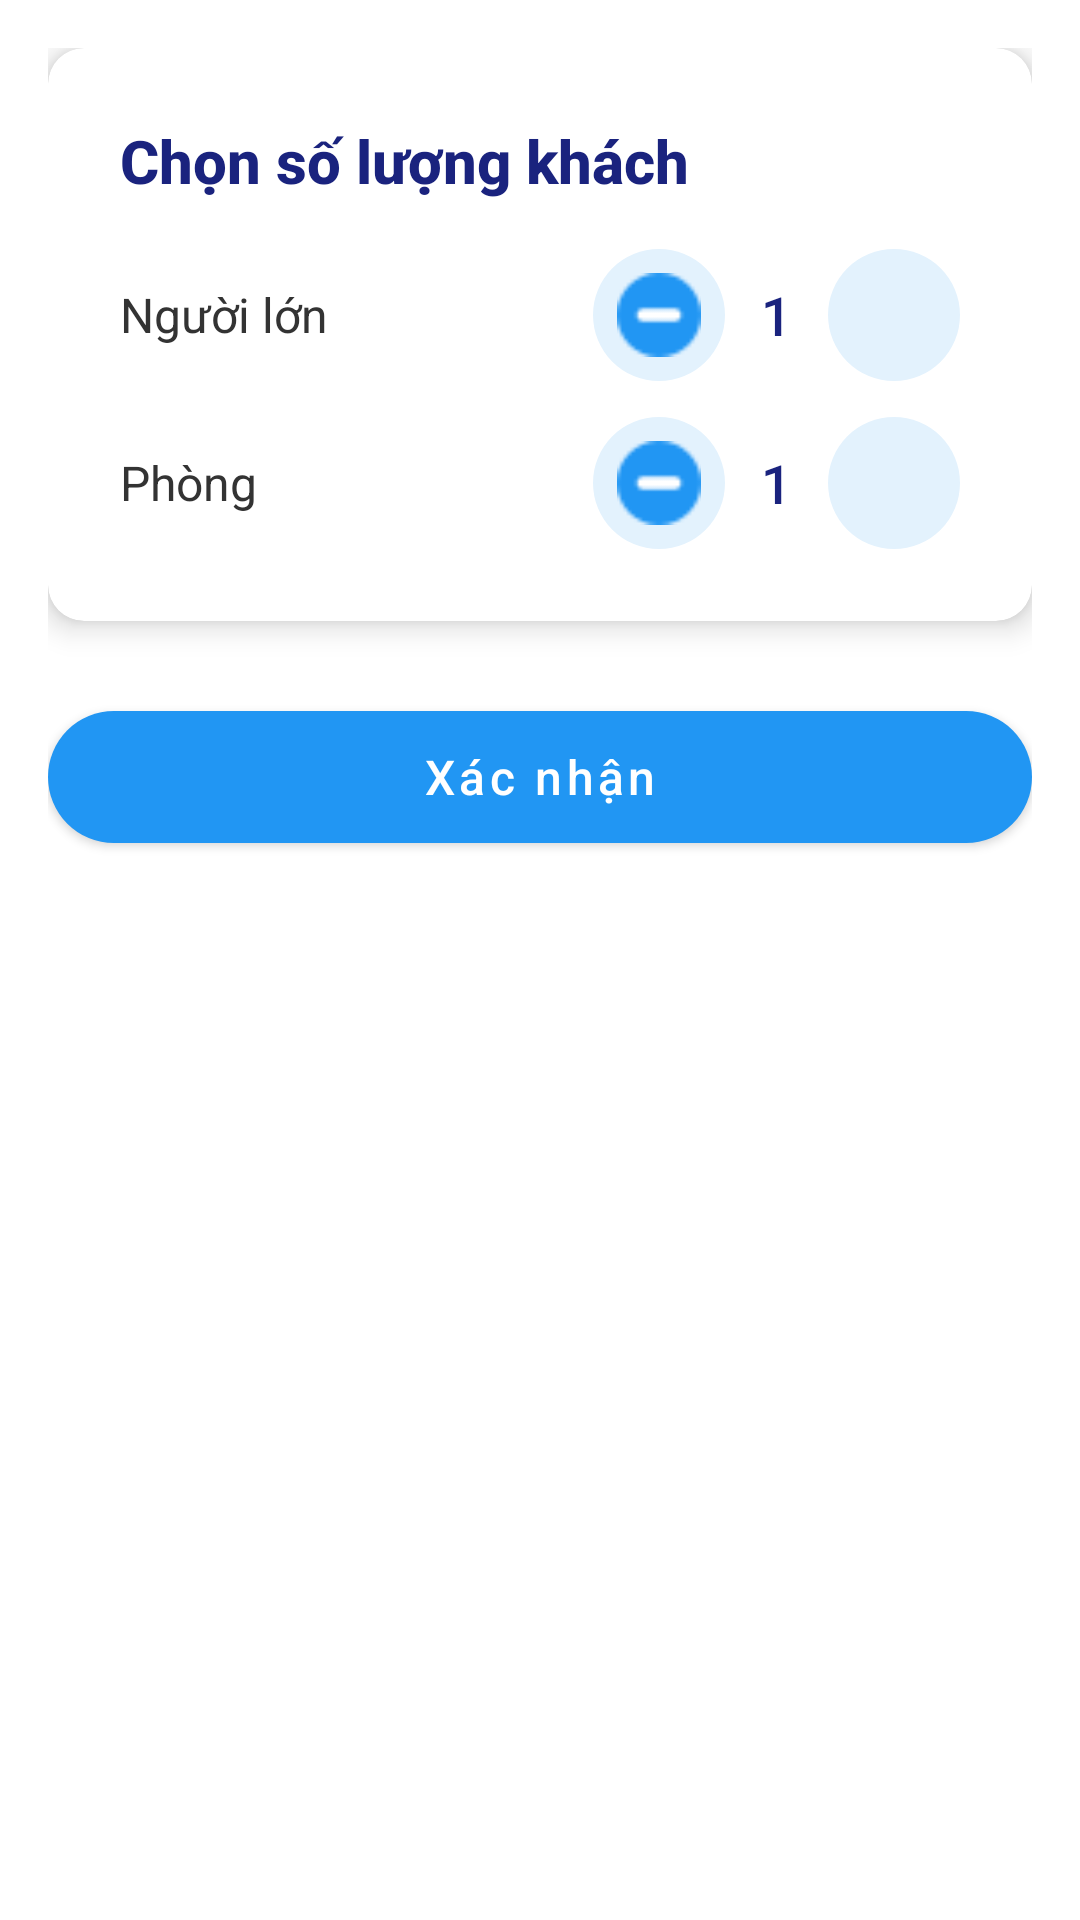

Point at icon controls on the screen. Image size 1080px x 1920px, points as (x,y).
Giảm: (659,315), (659,483)
